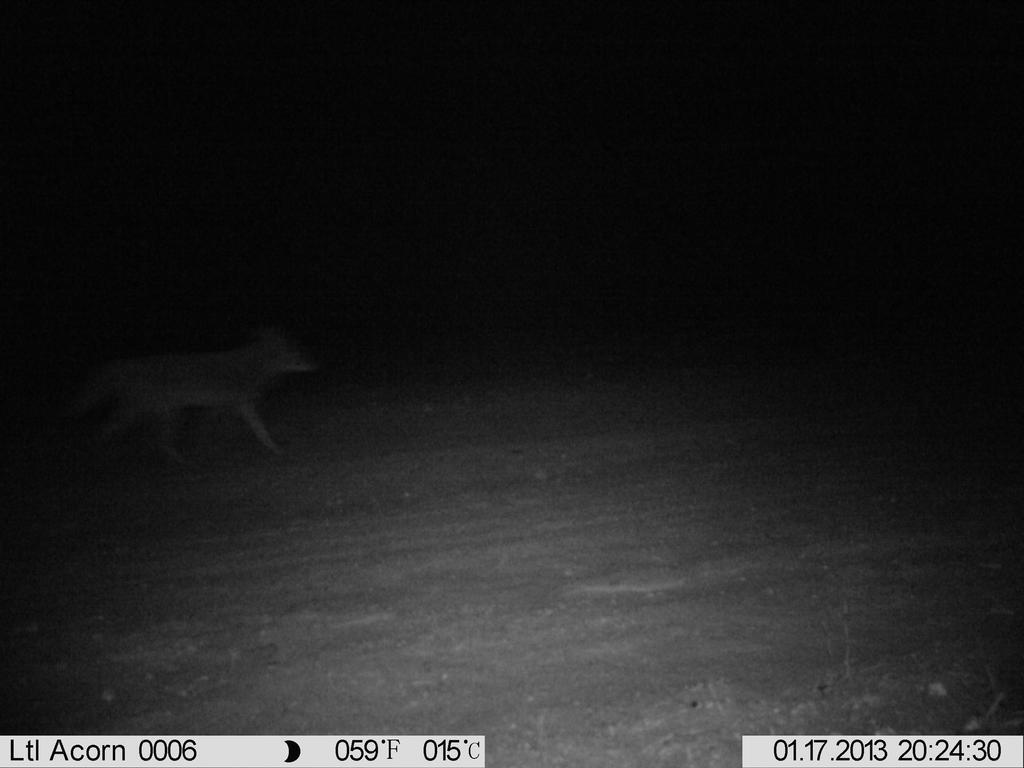coyote: (8, 295, 342, 495)
